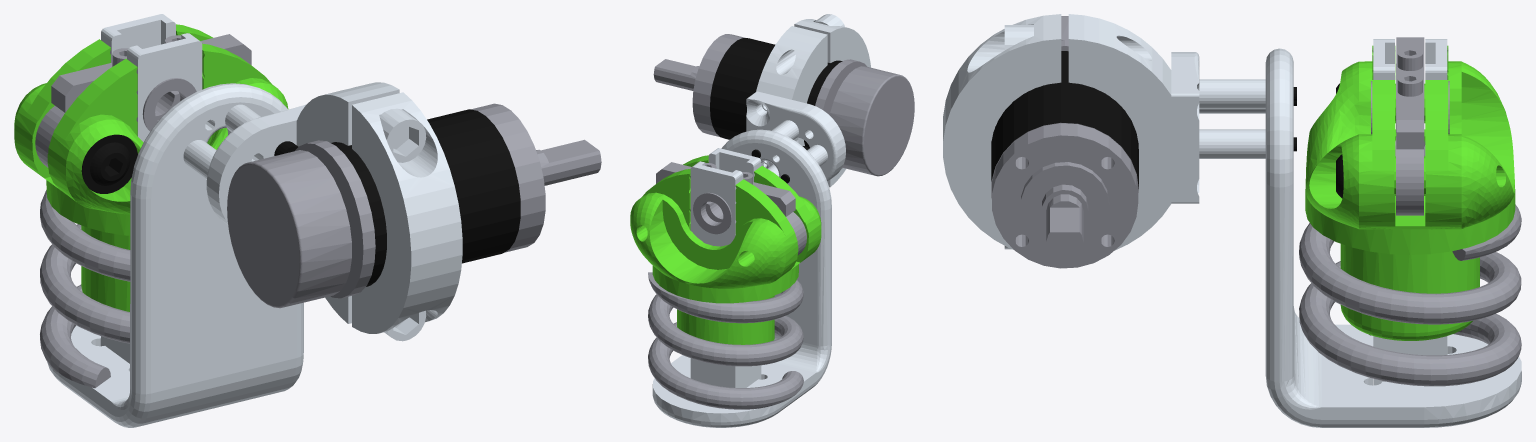
File: sea_arm_01_assem_02_shoulder_pitch_link_right.dae
The picture shows the model from 3 angles, left to right: view 1: azimuth 30°, elevation 25°; view 2: azimuth 150°, elevation 25°; view 3: azimuth 270°, elevation 25°; orthographic projection. The views are drawn at different scales.
Visible parts, largest first — view 1: SEA_Arm_01_Assem_02_-_Al_Angle_00_BDR_03-1, SEA_Arm_01_Assem_02_-_32_ECFlat_02-1, SEA_Arm_01_Assem_02_-_1_25_03_CNC_03-1, SEA_Arm_01_Assem_02_-_Sliding_Tube_11-1, SEA_Arm_01_Assem_02_-_Spiral_Spring_02-1, SEA_Arm_01_Assem_02_-_SEA_Tube_03-1, SEA_Arm_01_Assem_02_-_Pitch_Spacer_05-1, SEA_Arm_01_Assem_02_-_1_25_03_CNC_03-2, SEA_Arm_01_Assem_02_-_M6_Buttonhead_01-2, SEA_Arm_01_Assem_02_-_Rocker_Bar_02-1, SEA_Arm_01_Assem_02_-_8mm_Flanged_01-2, SEA_Arm_01_Assem_02_-_6mm_Bearing_01-2 (+2 smaller); view 2: SEA_Arm_01_Assem_02_-_Sliding_Tube_11-1, SEA_Arm_01_Assem_02_-_32_ECFlat_02-1, SEA_Arm_01_Assem_02_-_Al_Angle_00_BDR_03-1, SEA_Arm_01_Assem_02_-_Spiral_Spring_02-1, SEA_Arm_01_Assem_02_-_SEA_Tube_03-1, SEA_Arm_01_Assem_02_-_1_25_03_CNC_03-2, SEA_Arm_01_Assem_02_-_Pitch_Spacer_05-1, SEA_Arm_01_Assem_02_-_1_25_03_CNC_03-1, SEA_Arm_01_Assem_02_-_8mm_Flanged_01-1, SEA_Arm_01_Assem_02_-_Rocker_Bar_02-1, SEA_Arm_01_Assem_02_-_6mm_Bearing_01-2, SEA_Arm_01_Assem_02_-_Quarterby9_16th_01-1 (+2 smaller); view 3: SEA_Arm_01_Assem_02_-_Sliding_Tube_11-1, SEA_Arm_01_Assem_02_-_32_ECFlat_02-1, SEA_Arm_01_Assem_02_-_Al_Angle_00_BDR_03-1, SEA_Arm_01_Assem_02_-_Spiral_Spring_02-1, SEA_Arm_01_Assem_02_-_1_25_03_CNC_03-1, SEA_Arm_01_Assem_02_-_1_25_03_CNC_03-2, SEA_Arm_01_Assem_02_-_Pitch_Spacer_05-1, SEA_Arm_01_Assem_02_-_SEA_Tube_03-1, SEA_Arm_01_Assem_02_-_Rocker_Bar_02-1, SEA_Arm_01_Assem_02_-_Quarterby9_16th_01-1, SEA_Arm_01_Assem_02_-_Quarterby9_16th_01-3, SEA_Arm_01_Assem_02_-_6mm_Bearing_01-1 (+2 smaller).
Boxes of the visible parts, x1,y1,x2,y2 form: SEA_Arm_01_Assem_02_-_Al_Angle_00_BDR_03-1: [47, 83, 303, 427]; SEA_Arm_01_Assem_02_-_32_ECFlat_02-1: [227, 103, 601, 308]; SEA_Arm_01_Assem_02_-_1_25_03_CNC_03-1: [352, 92, 462, 341]; SEA_Arm_01_Assem_02_-_Sliding_Tube_11-1: [14, 24, 288, 311]; SEA_Arm_01_Assem_02_-_Spiral_Spring_02-1: [40, 190, 130, 388]; SEA_Arm_01_Assem_02_-_SEA_Tube_03-1: [101, 14, 202, 363]; SEA_Arm_01_Assem_02_-_Pitch_Spacer_05-1: [206, 104, 306, 224]; SEA_Arm_01_Assem_02_-_1_25_03_CNC_03-2: [296, 82, 399, 323]; SEA_Arm_01_Assem_02_-_M6_Buttonhead_01-2: [81, 134, 137, 193]; SEA_Arm_01_Assem_02_-_Rocker_Bar_02-1: [51, 34, 251, 112]; SEA_Arm_01_Assem_02_-_8mm_Flanged_01-2: [142, 78, 196, 131]; SEA_Arm_01_Assem_02_-_6mm_Bearing_01-2: [35, 106, 64, 167]; SEA_Arm_01_Assem_02_-_Sliding_Tube_11-1: [630, 155, 821, 344]; SEA_Arm_01_Assem_02_-_32_ECFlat_02-1: [653, 34, 914, 176]; SEA_Arm_01_Assem_02_-_Al_Angle_00_BDR_03-1: [652, 129, 831, 427]; SEA_Arm_01_Assem_02_-_Spiral_Spring_02-1: [648, 272, 803, 409]; SEA_Arm_01_Assem_02_-_SEA_Tube_03-1: [690, 148, 761, 387]; SEA_Arm_01_Assem_02_-_1_25_03_CNC_03-2: [756, 26, 827, 164]; SEA_Arm_01_Assem_02_-_Pitch_Spacer_05-1: [746, 91, 845, 181]; SEA_Arm_01_Assem_02_-_1_25_03_CNC_03-1: [794, 14, 870, 187]; SEA_Arm_01_Assem_02_-_8mm_Flanged_01-1: [693, 192, 731, 234]; SEA_Arm_01_Assem_02_-_Rocker_Bar_02-1: [656, 162, 795, 216]; SEA_Arm_01_Assem_02_-_6mm_Bearing_01-2: [786, 212, 806, 255]; SEA_Arm_01_Assem_02_-_Quarterby9_16th_01-1: [771, 120, 798, 139]; SEA_Arm_01_Assem_02_-_Sliding_Tube_11-1: [1305, 45, 1515, 340]; SEA_Arm_01_Assem_02_-_32_ECFlat_02-1: [991, 16, 1138, 268]; SEA_Arm_01_Assem_02_-_Al_Angle_00_BDR_03-1: [1265, 48, 1521, 427]; SEA_Arm_01_Assem_02_-_Spiral_Spring_02-1: [1299, 204, 1521, 386]; SEA_Arm_01_Assem_02_-_1_25_03_CNC_03-1: [943, 14, 1061, 249]; SEA_Arm_01_Assem_02_-_1_25_03_CNC_03-2: [1068, 14, 1171, 250]; SEA_Arm_01_Assem_02_-_Pitch_Spacer_05-1: [1171, 52, 1199, 203]; SEA_Arm_01_Assem_02_-_SEA_Tube_03-1: [1373, 39, 1447, 385]; SEA_Arm_01_Assem_02_-_Rocker_Bar_02-1: [1396, 37, 1424, 149]; SEA_Arm_01_Assem_02_-_Quarterby9_16th_01-1: [1199, 79, 1265, 108]; SEA_Arm_01_Assem_02_-_Quarterby9_16th_01-3: [1199, 129, 1265, 158]; SEA_Arm_01_Assem_02_-_6mm_Bearing_01-1: [1396, 137, 1423, 215].
Bounding box in the file's own units: 0.0935 × 0.1242 × 0.0922.
